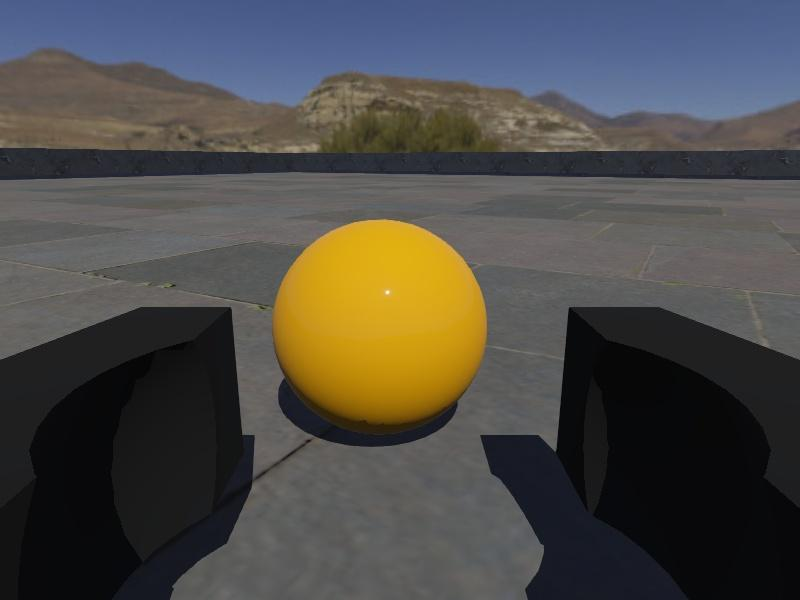orange ball: (272, 218, 488, 437)
